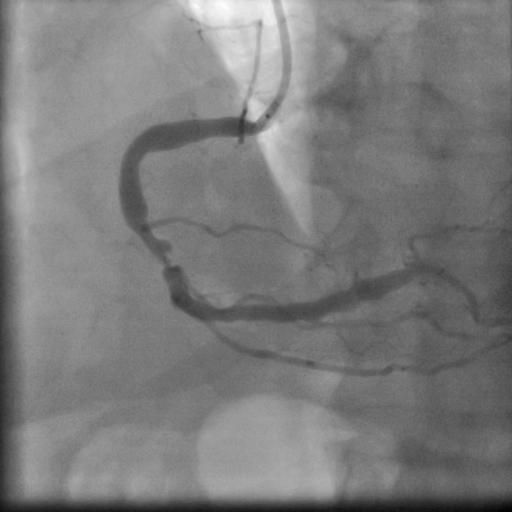Stenosis: (139, 240, 185, 279)
